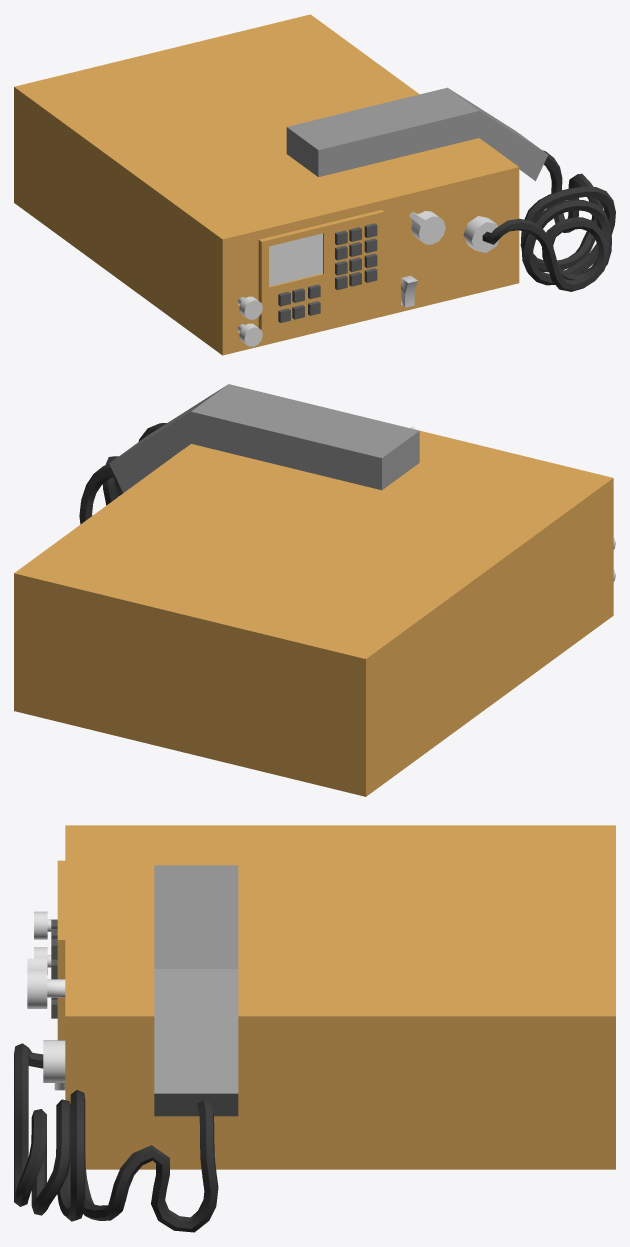
The model's file is SM_Radio_001.fbx.
3 views of the same model, one above another, from view 1: azimuth 30°, elevation 25°; view 2: azimuth 150°, elevation 25°; view 3: azimuth 270°, elevation 25° (orthographic). The views are drawn at different scales.
Visible parts, largest first — view 1: Radio; view 2: Radio; view 3: Radio.
Part boxes in pixels (x1,y1,x2,y2): Radio: [14, 14, 615, 355]; Radio: [14, 384, 615, 796]; Radio: [14, 825, 615, 1232].
Bounding box in the file's own units: 71 × 27 × 70.
